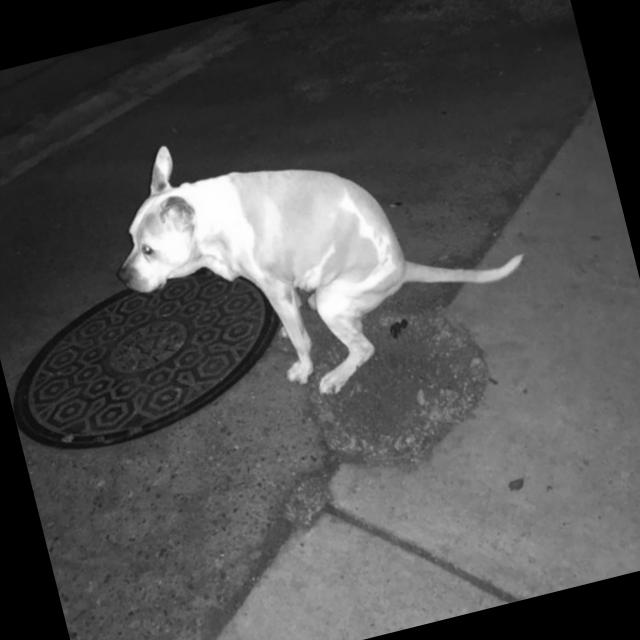squatting: (82, 62, 550, 446)
